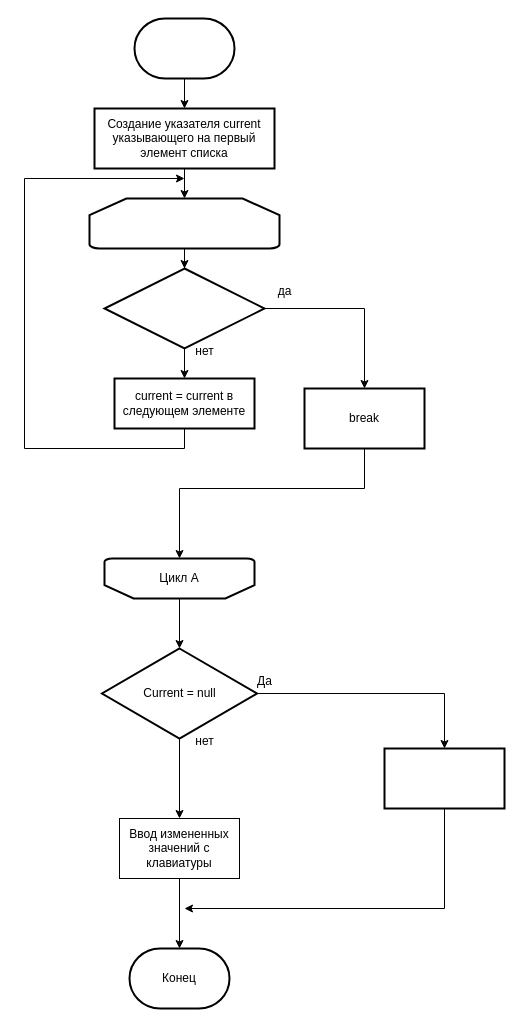
The diagram is 523 pixels wide and 1026 high, and some of its shapes have lost their labels. Here are the shapes that lost their labels. From the top down, the centre of each, then its label:
At [184,48]: "Начало".
At [184,223]: "Цикл А: пока current != Null".
At [184,308]: "ФИО = введенному значению".
At [444,778]: "Клиент не найден".
